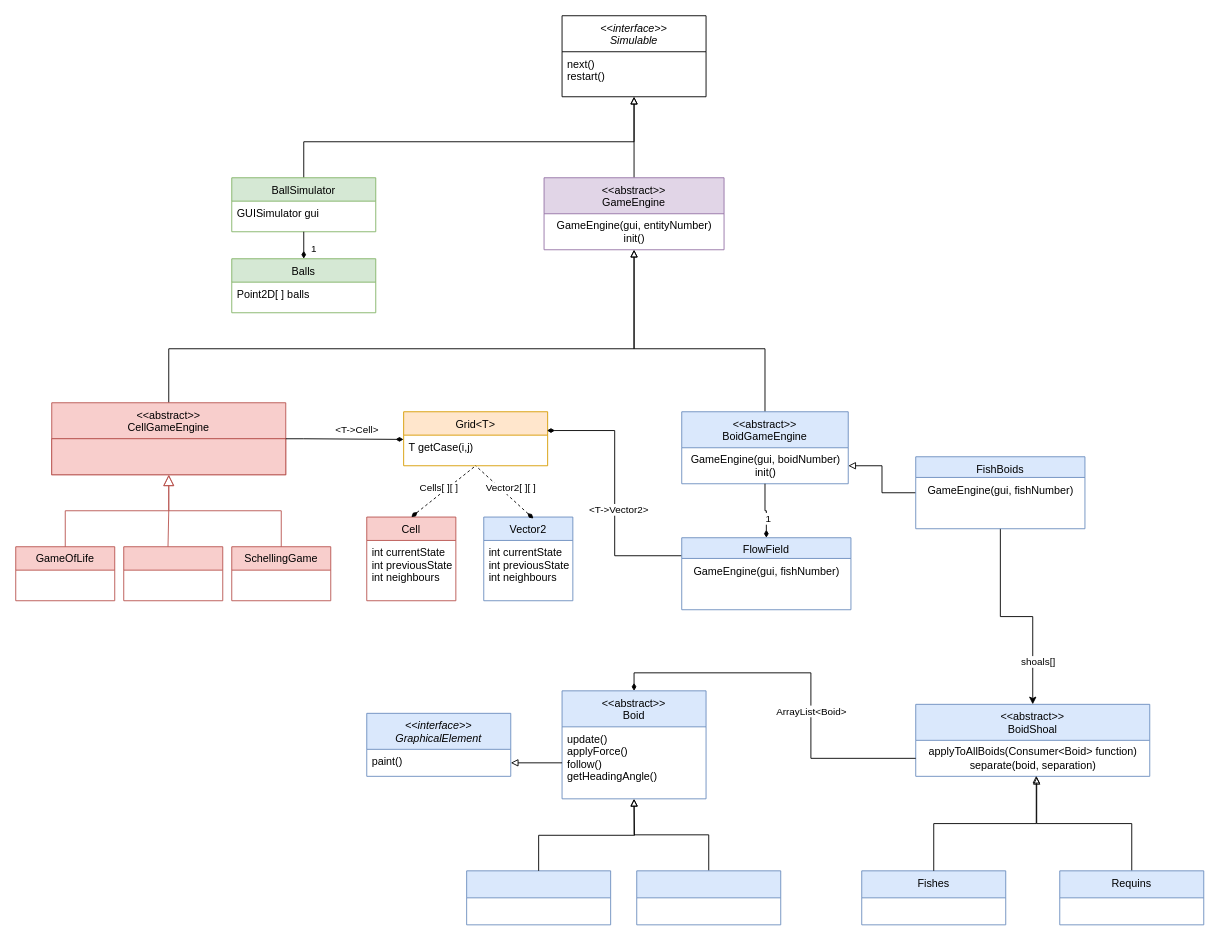
Some shapes in this 1220 by 941 pixel diagram are drawn without their labels. The shapes that lost their labels are listed below. From the top down, each one's centre as x and y in pixels, then its label:
the point at 168,456: GameEngine(gui, gridSize, cellNb, stateNB) calculateNeighbours()
the point at 173,573: InmigrationGame
the point at 538,897: Sardine
the point at 708,897: Requin
